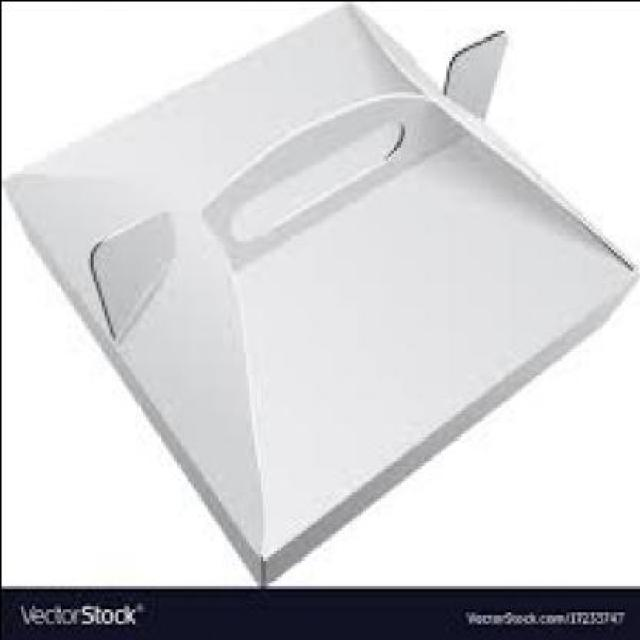CARDBOARD: (1, 1, 637, 582)
